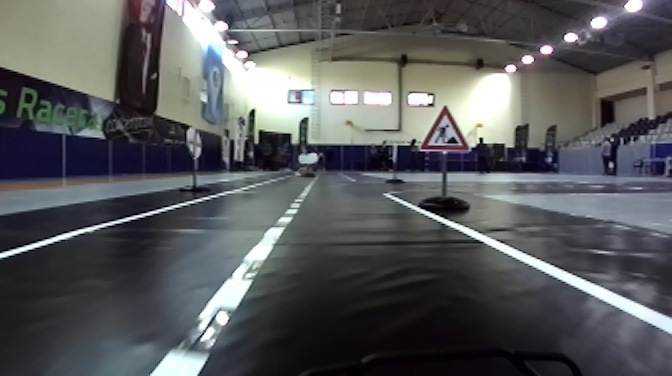yol_yapimi: (415, 102, 473, 152)
